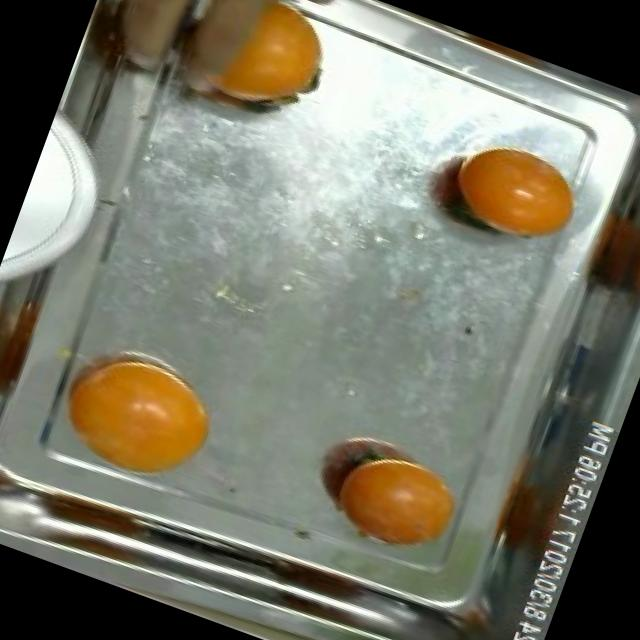Fruit: (23, 318, 245, 516), (131, 0, 360, 148), (312, 428, 484, 580), (431, 124, 594, 266), (555, 182, 640, 319)
